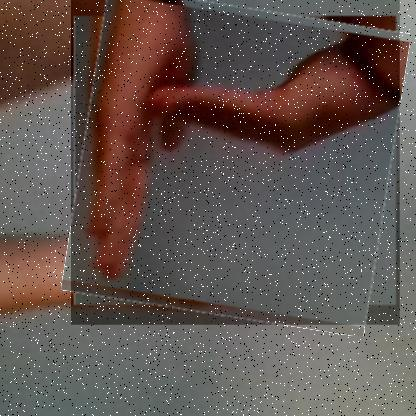Z: (71, 0, 401, 326)
